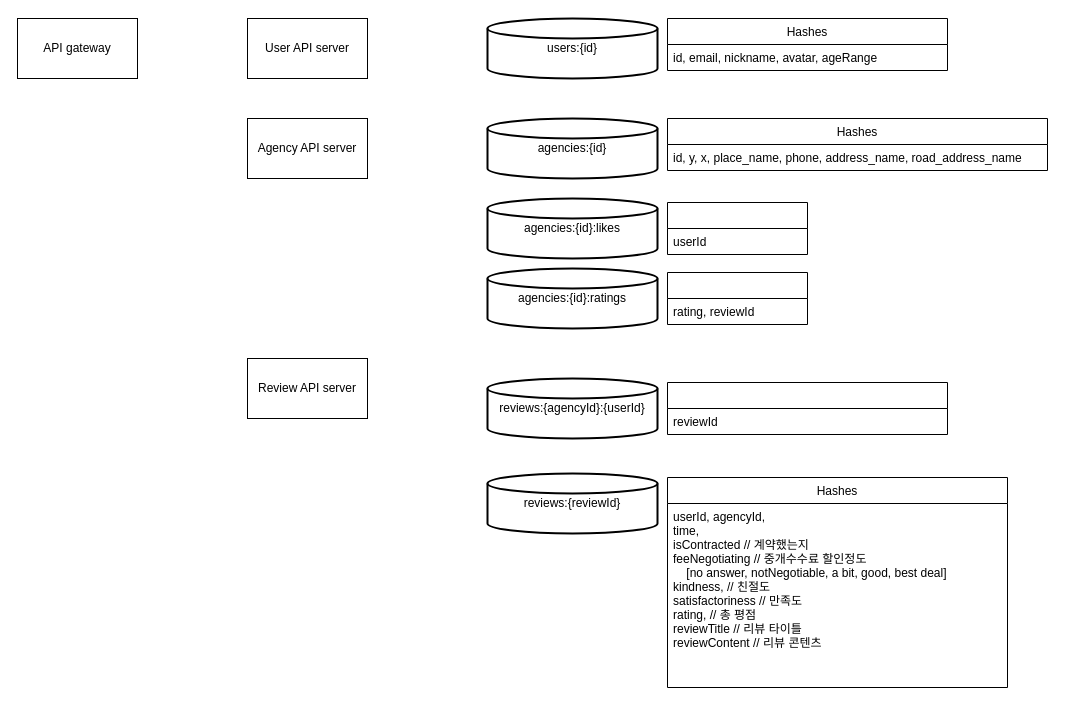
Some shapes in this 1065 by 707 pixel diagram are drawn without their labels. Here are the shapes that lost their labels. From the top down, the box of each, then its label:
(666, 202, 808, 254): Set
(666, 272, 808, 324): ZSet
(666, 382, 948, 434): List
